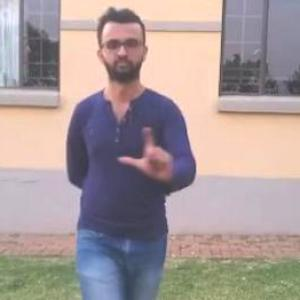land_hand: (114, 120, 181, 187)
